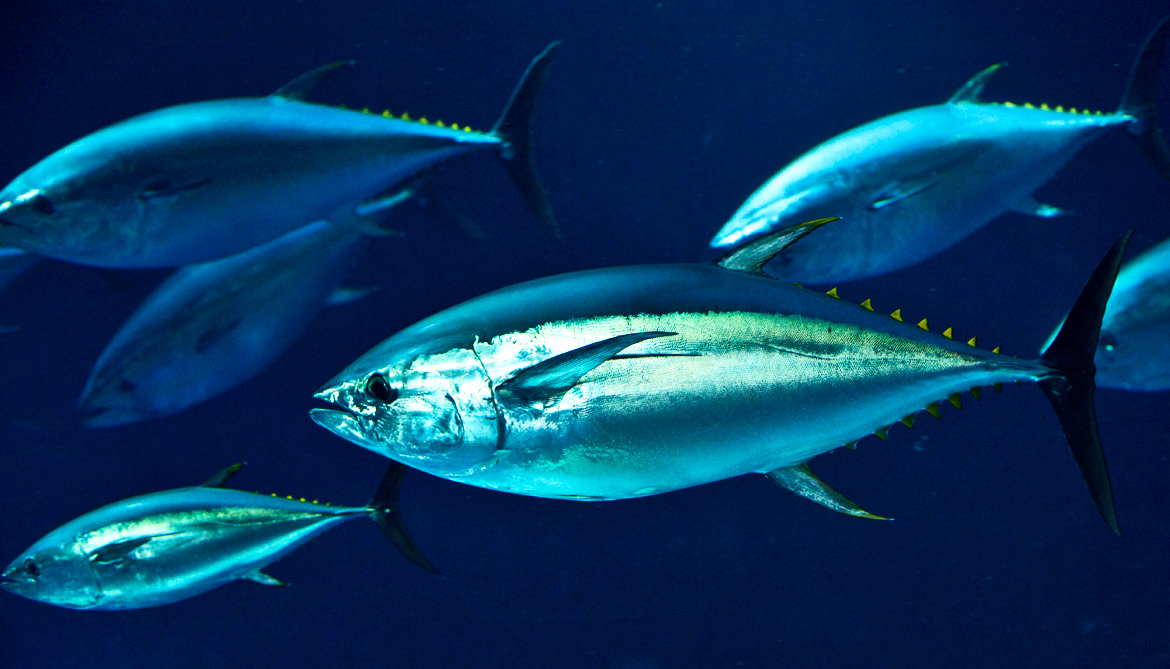Bluefina Tuna: (306, 248, 1150, 548)
